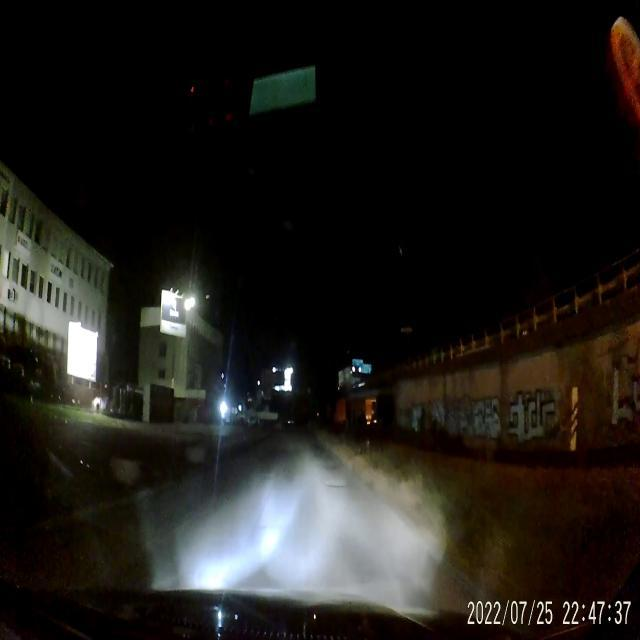Pothole: (326, 478, 348, 496)
